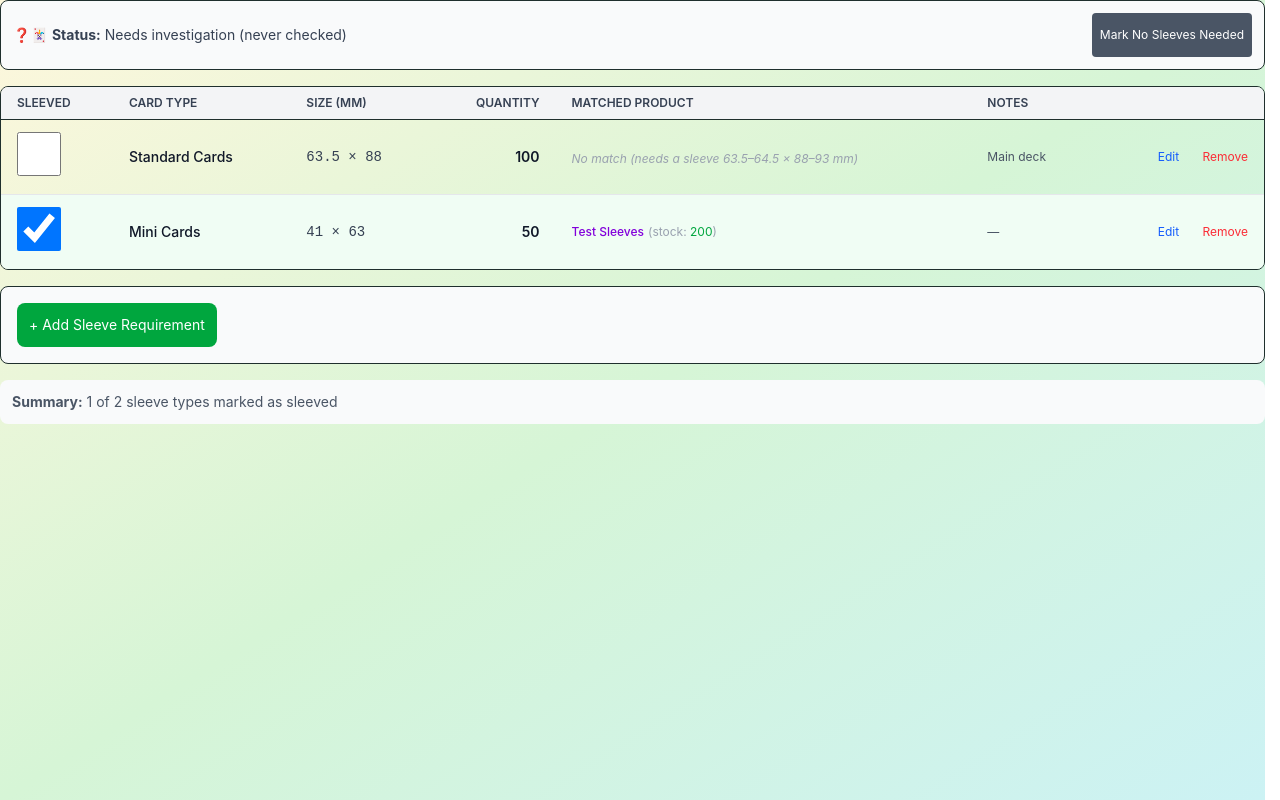
SleevesListTable › flushPending › resolves false and keeps the form when the add form is invalid
Click the button "+ Add Sleeve Requirement". click: click(117, 325)
box: [17,303,217,347]
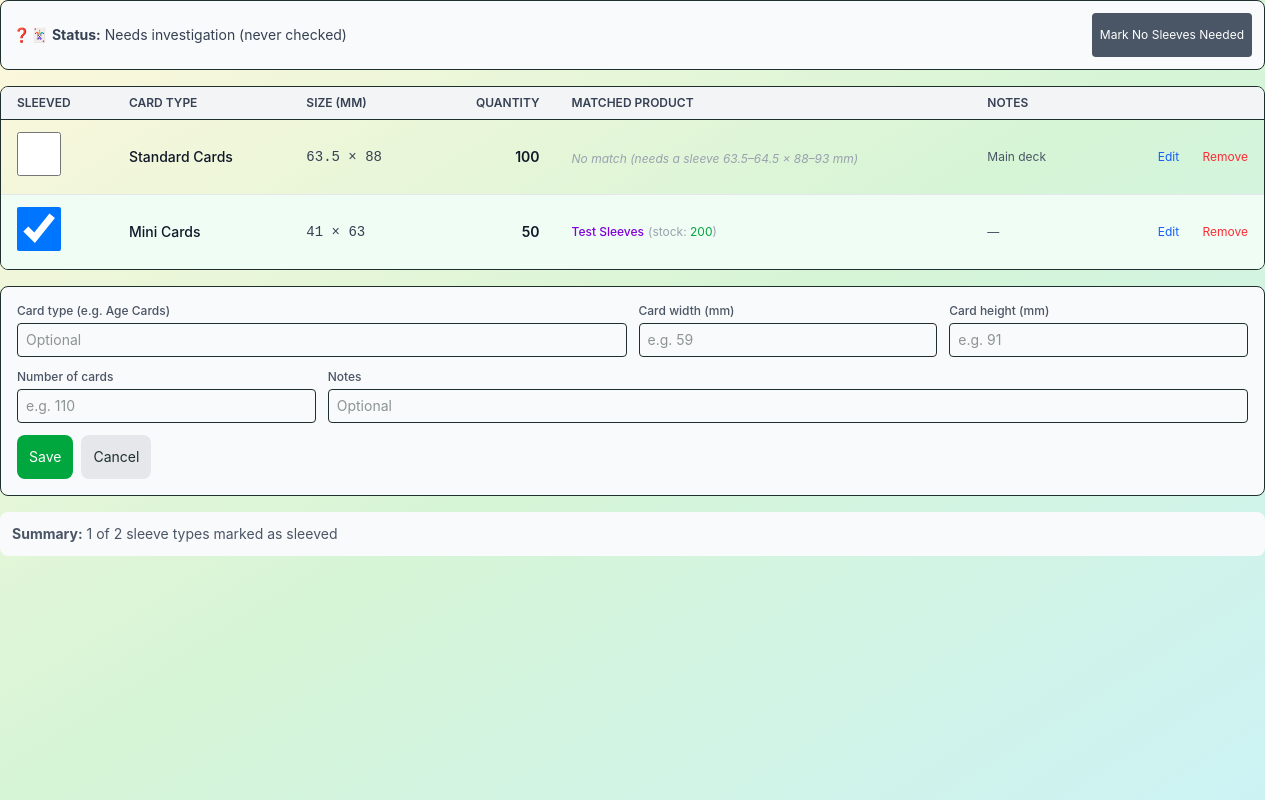
Type "59" into the number field labelled "Card width (mm)". click: (788, 340)
box: [638,323,937,357]
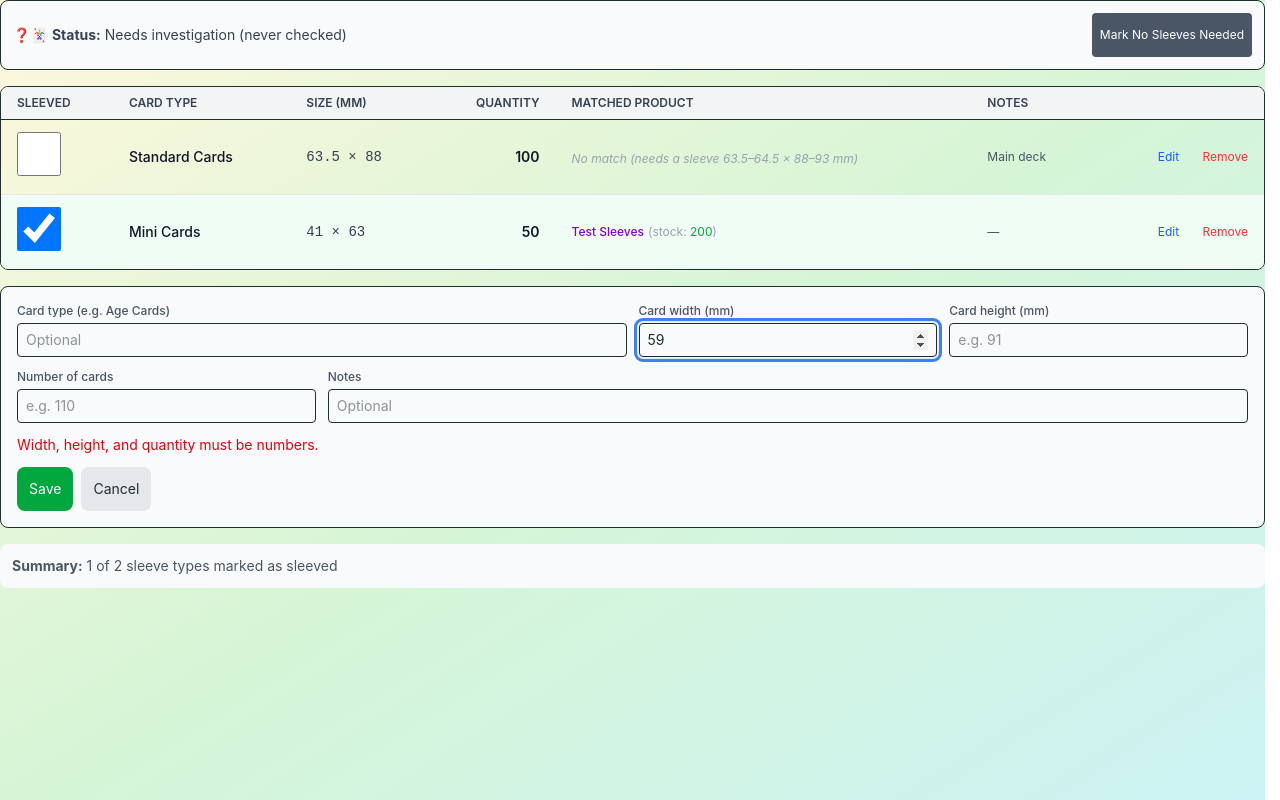
Now the text "Width, height, and quantity must be numbers." is shown, box [17,436,319,453]
